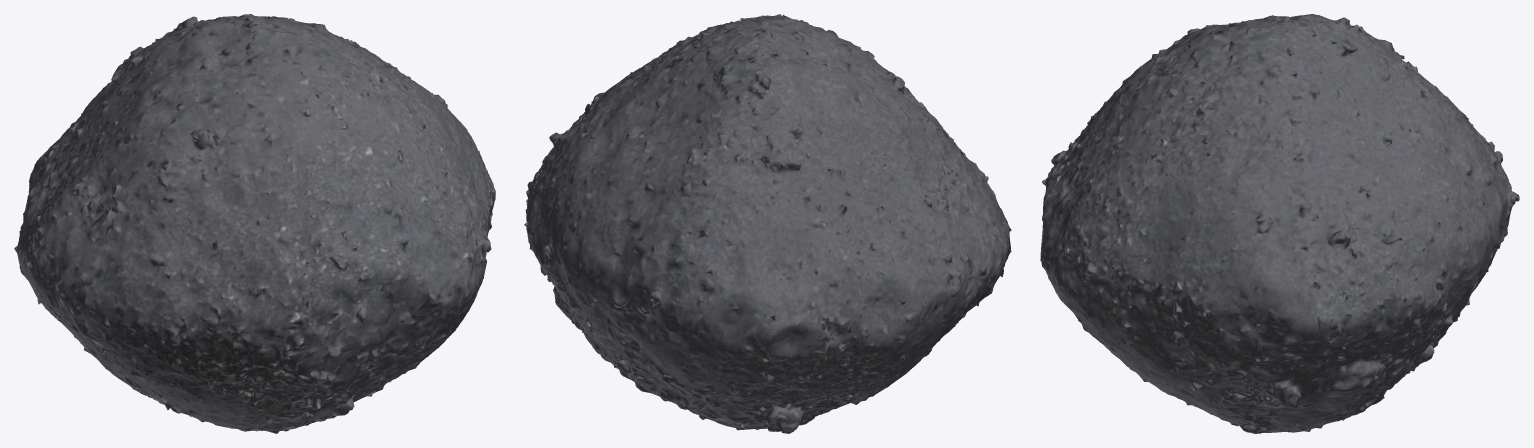
File: bennu-low.glb
The picture shows the model from 3 angles, left to right: view 1: azimuth 30°, elevation 25°; view 2: azimuth 150°, elevation 25°; view 3: azimuth 270°, elevation 25°; orthographic projection. The views are drawn at different scales.
Bounding box in the file's own units: 2 × 1.76 × 1.92.
1 material, 1 textured.
